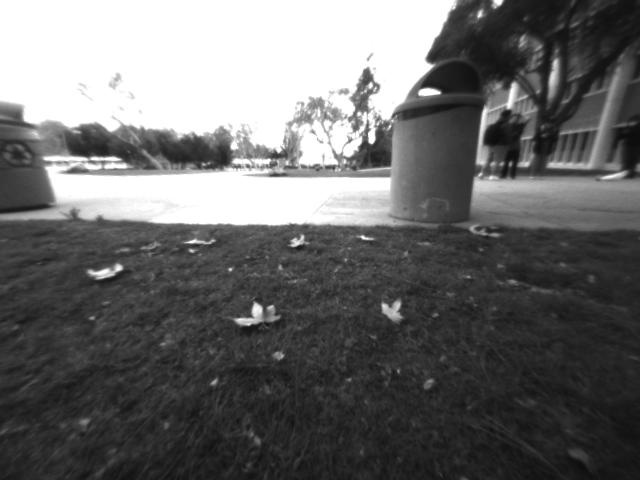trashcan: (376, 52, 505, 237)
